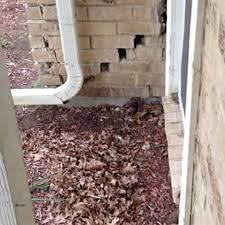stairstep_crack: (82, 32, 146, 82), (36, 5, 62, 83)
